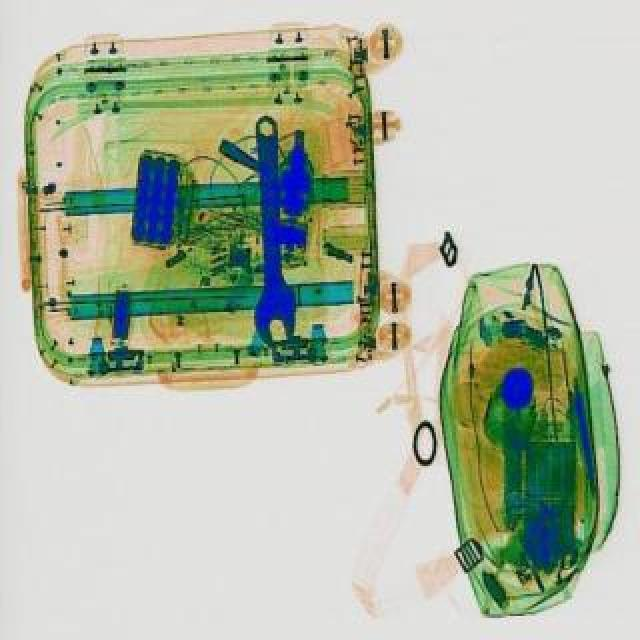scissors: (246, 114, 298, 350)
